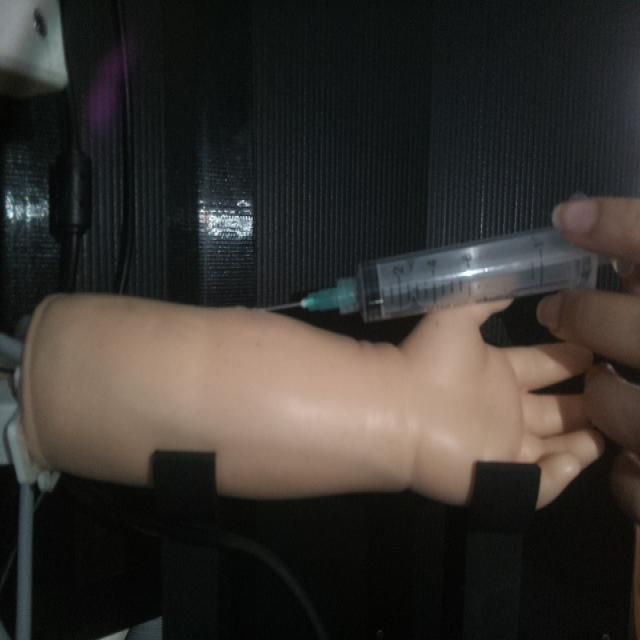Outside: (252, 191, 640, 315)
